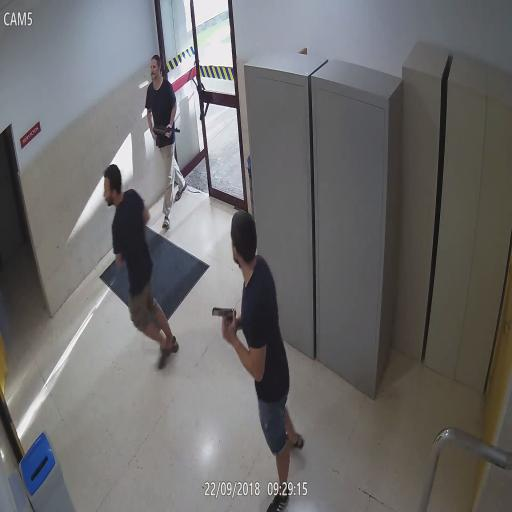Handgun: (210, 302, 238, 344)
